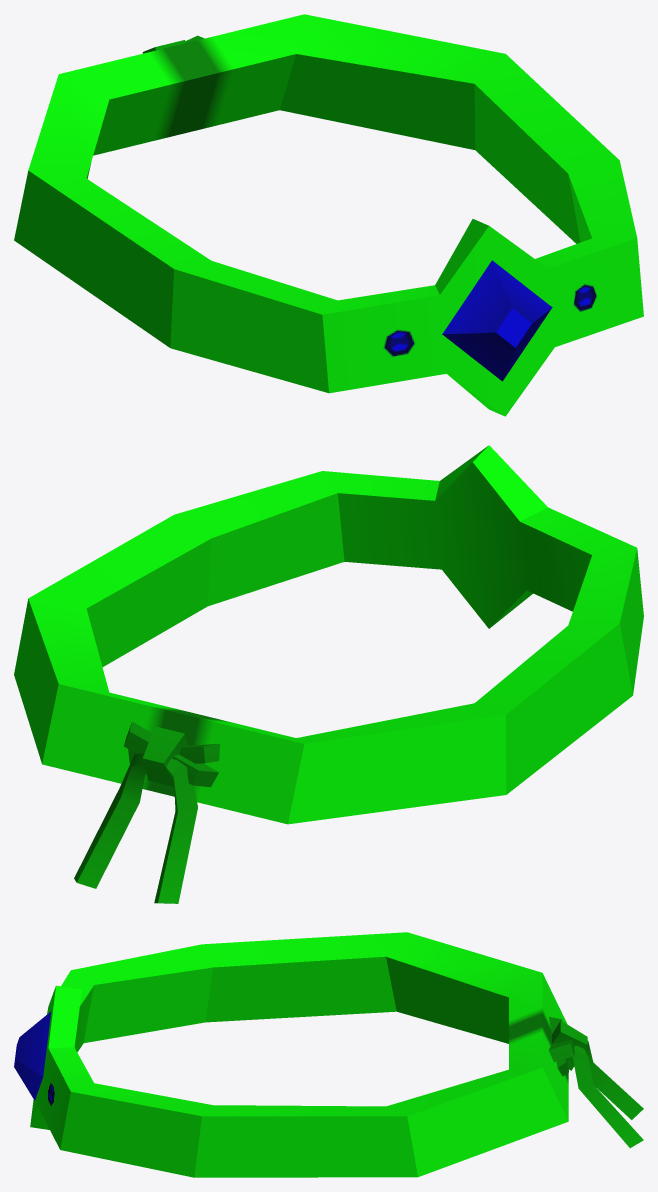
The model's file is LeatherCirclet_F.fbx.
3 views of the same model, one above another, from view 1: azimuth 30°, elevation 25°; view 2: azimuth 150°, elevation 25°; view 3: azimuth 270°, elevation 25° (orthographic). The views are drawn at different scales.
Visible parts, largest first — view 1: LeatherCirclet_F; view 2: LeatherCirclet_F; view 3: LeatherCirclet_F.
Boxes of the visible parts, box(x1,y1,x2,y2) form: LeatherCirclet_F: box(14, 14, 643, 416); LeatherCirclet_F: box(14, 445, 643, 903); LeatherCirclet_F: box(14, 932, 643, 1177).
Bounding box in the file's own units: 22.67 × 8.12 × 31.77.
